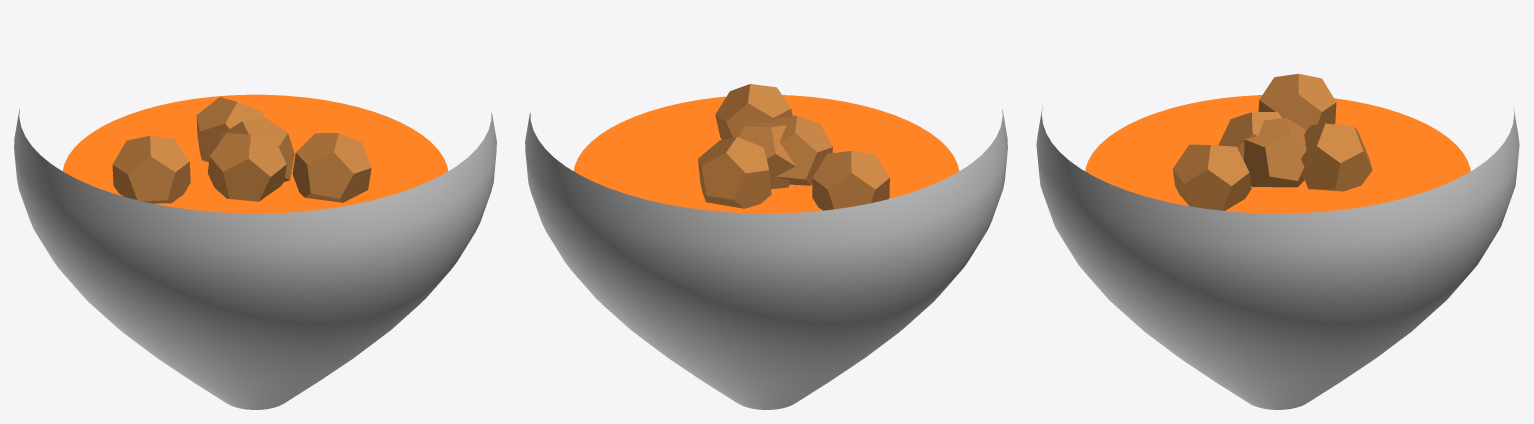
Rendered from chicken_curry.glb.
The picture shows the model from 3 angles, left to right: view 1: azimuth 30°, elevation 25°; view 2: azimuth 150°, elevation 25°; view 3: azimuth 270°, elevation 25°; orthographic projection.
Size of the model in its own units: 7 by 4.5 by 7.
